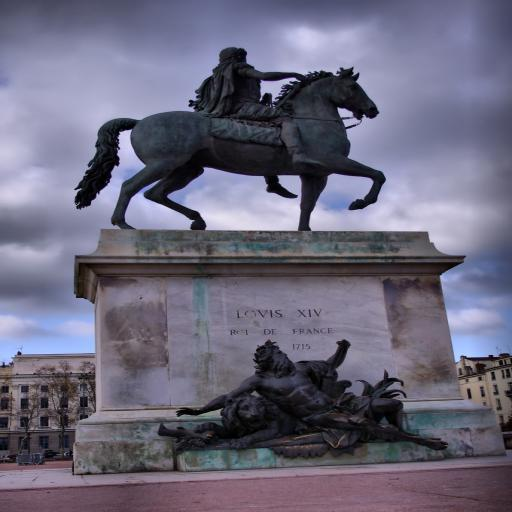horse: (70, 65, 388, 231)
